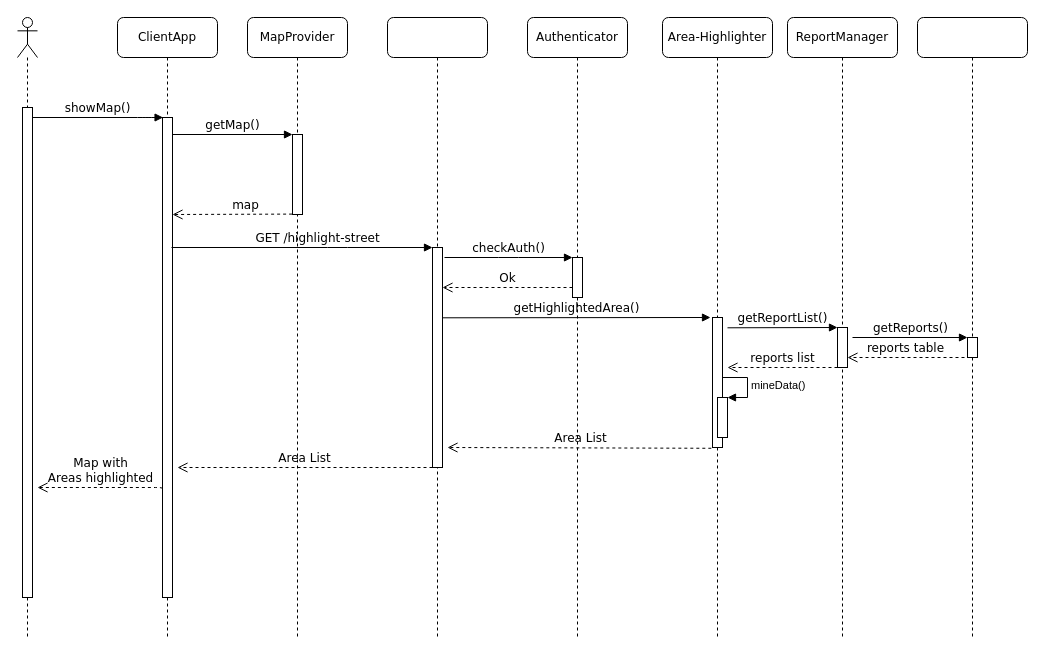
Image size: 1045x655. Some labels were removed from this diagram. The shapes that lost their labels are listed below. From the top down, each one's box as (x1, y1, x2, y2) in pixels, then its label:
(386, 16, 488, 638): Router
(916, 16, 1028, 638): DBMS
